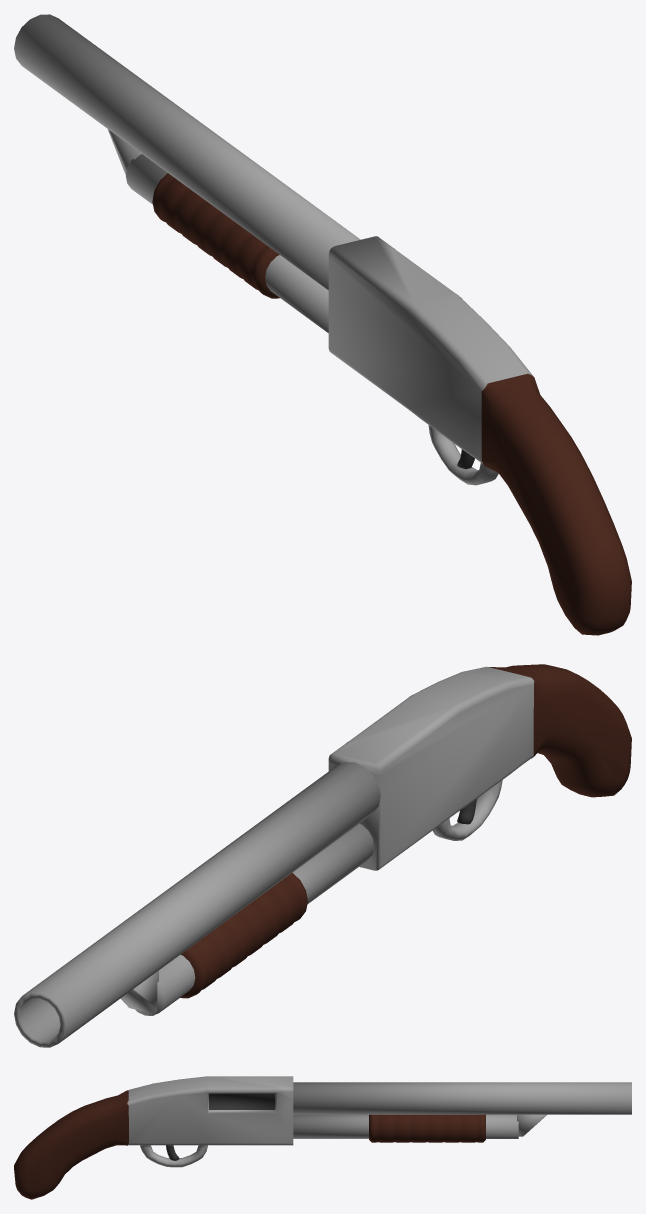
Rendered from escopetaTerminada.fbx.
3 views of the same model, one above another, from view 1: azimuth 30°, elevation 25°; view 2: azimuth 150°, elevation 25°; view 3: azimuth 270°, elevation 25° (orthographic). The views are drawn at different scales.
Visible parts, largest first — view 1: escopeta; view 2: escopeta; view 3: escopeta.
Boxes of the visible parts, left/top/right/bottom form: escopeta: left=14, top=14, right=631, bottom=635; escopeta: left=14, top=664, right=631, bottom=1047; escopeta: left=14, top=1076, right=631, bottom=1199.
Bounding box in the file's own units: 200 × 786 × 3818.
